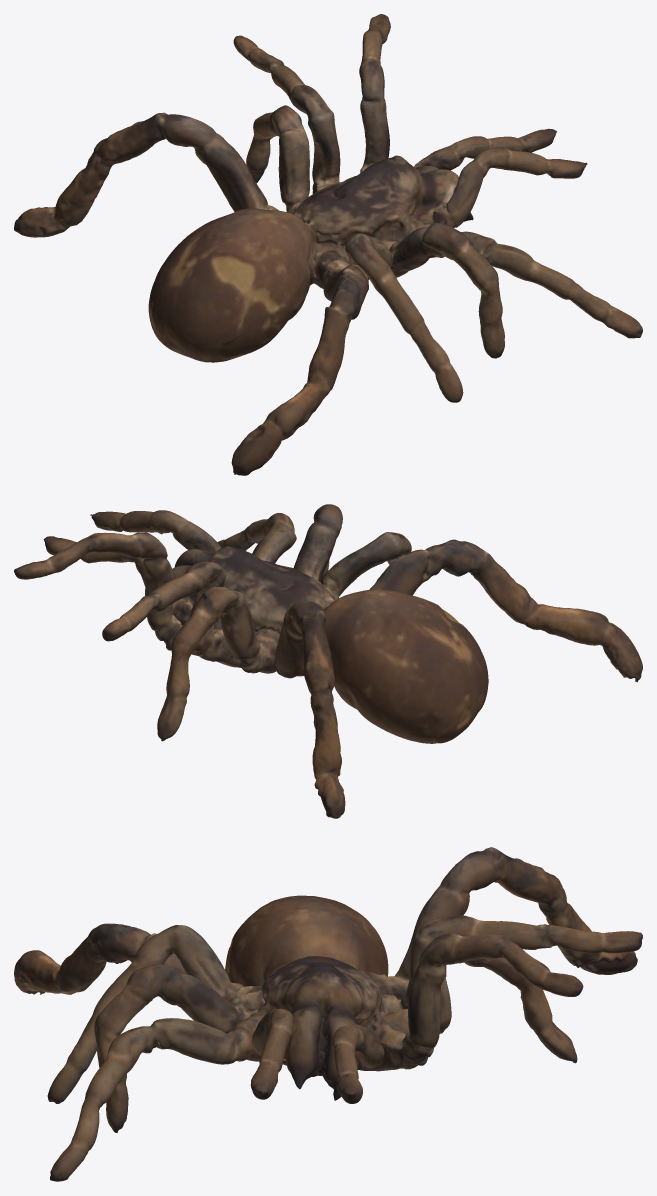
Rendered from sf-king-baboon-tarantula-92c84c.glb.
The picture shows the model from 3 angles, top to bottom: view 1: azimuth 30°, elevation 25°; view 2: azimuth 150°, elevation 25°; view 3: azimuth 270°, elevation 25°; orthographic projection. The views are drawn at different scales.
Visible parts, largest first — view 1: Object_2; view 2: Object_2; view 3: Object_2.
Part boxes in pixels (x1,y1,x2,y2): Object_2: (14,14,642,475); Object_2: (14,504,642,818); Object_2: (14,847,642,1181).
Size of the model in its own units: 129 by 56.83 by 134.
1 material, 1 textured.
